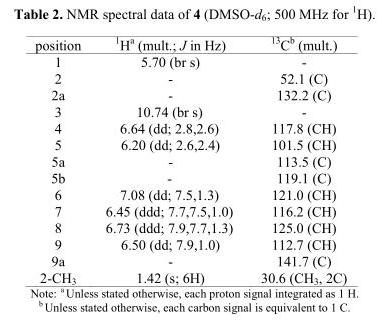table: (34, 34, 346, 285)
table column: (92, 34, 246, 285), (246, 34, 346, 285), (34, 34, 92, 285)
table column header: (34, 34, 346, 52)
table row: (34, 34, 346, 52), (34, 52, 346, 69), (34, 69, 346, 86), (34, 102, 346, 119), (34, 135, 346, 152), (34, 152, 346, 169), (34, 185, 346, 202), (34, 218, 346, 235), (34, 235, 346, 252), (34, 268, 346, 285), (34, 86, 346, 102), (34, 119, 346, 135), (34, 169, 346, 185), (34, 202, 346, 218), (34, 252, 346, 268)
